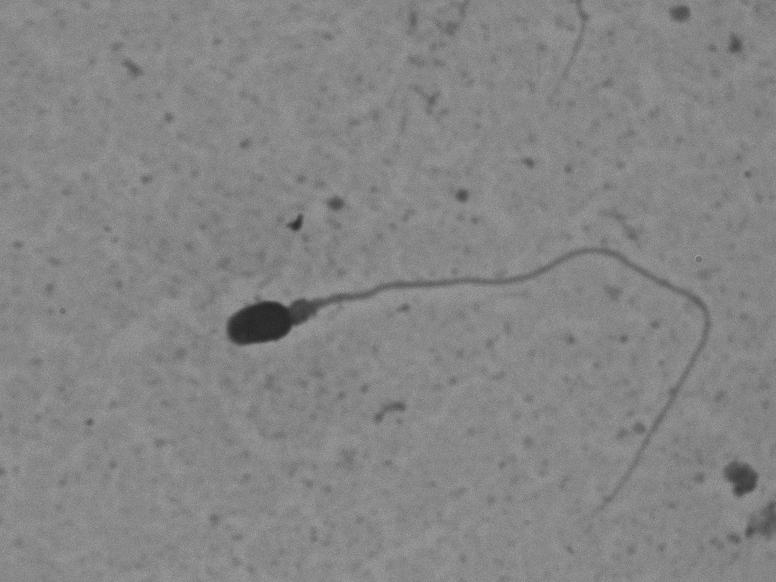Abnormal: (164, 226, 731, 509)
